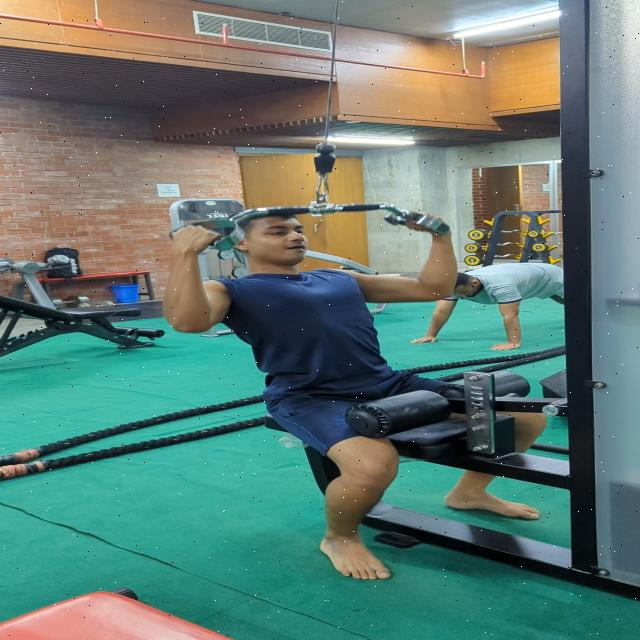Normal_LatPulldown: (154, 193, 545, 597)
